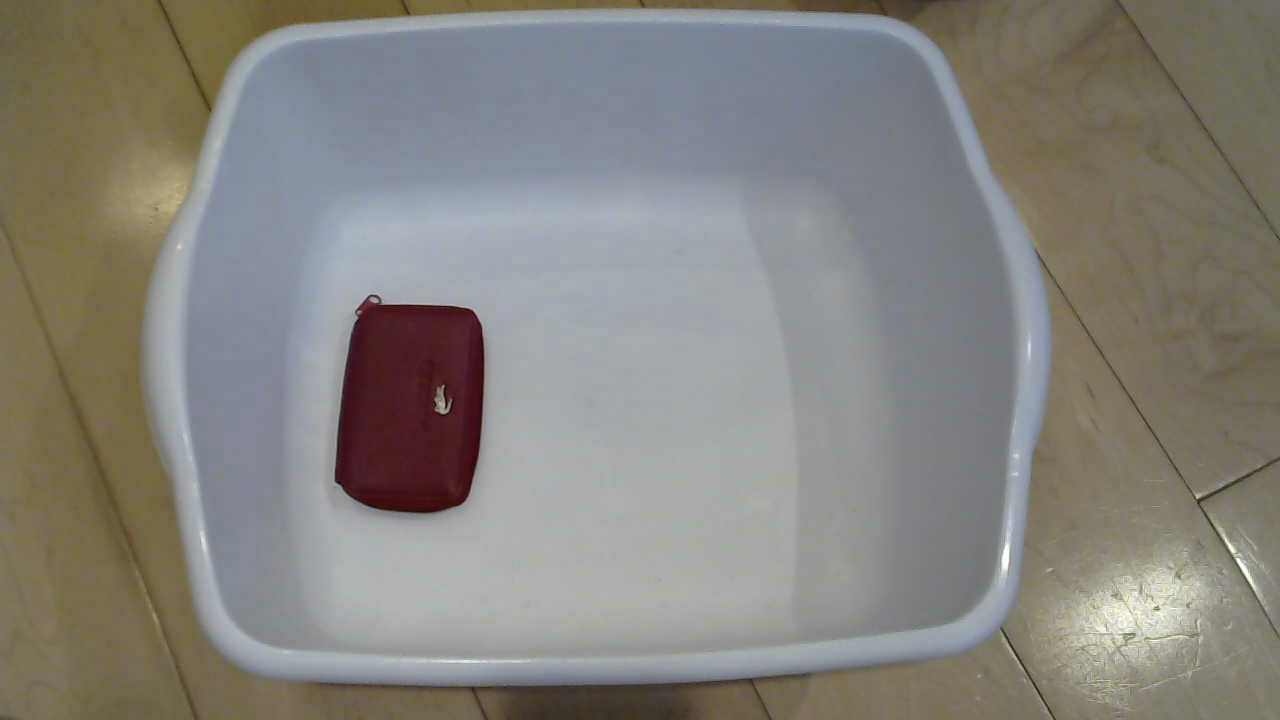wallet: (321, 300, 509, 531)
